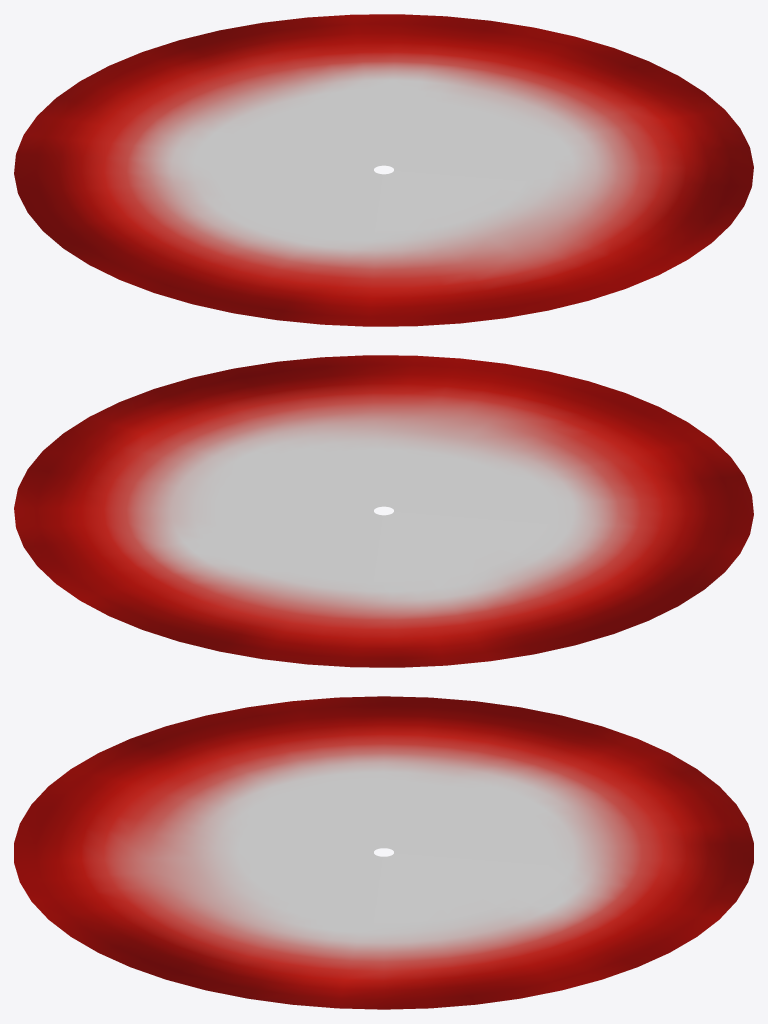
File: EM_circle(noAlpha)_colorgrade.FBX
3 renders of one model, top to bottom at view 1: azimuth 30°, elevation 25°; view 2: azimuth 150°, elevation 25°; view 3: azimuth 270°, elevation 25°, orthographic.
Parts seen in each view (by area): view 1: Cone001; view 2: Cone001; view 3: Cone001.
Part boxes in pixels (box(x1,y1,x2,y2)): Cone001: box(14, 14, 753, 326); Cone001: box(14, 355, 753, 667); Cone001: box(14, 696, 753, 1009).
Size of the model in its own units: 485 by 0.3669 by 484.
